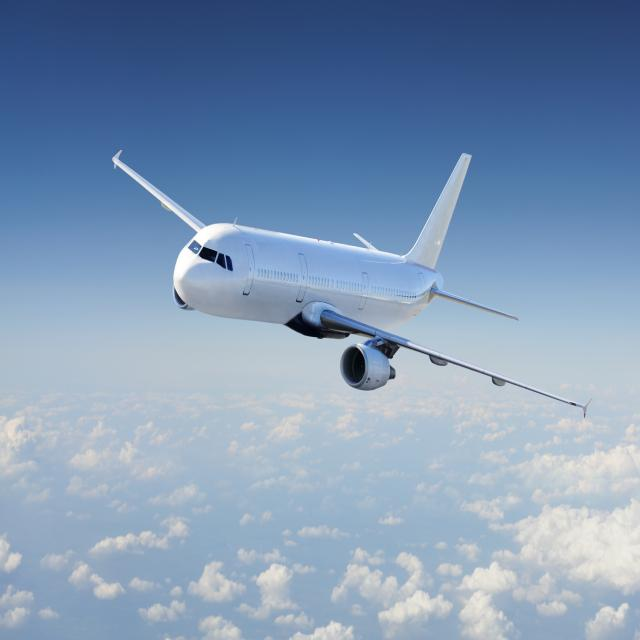plain: (115, 132, 599, 414)
